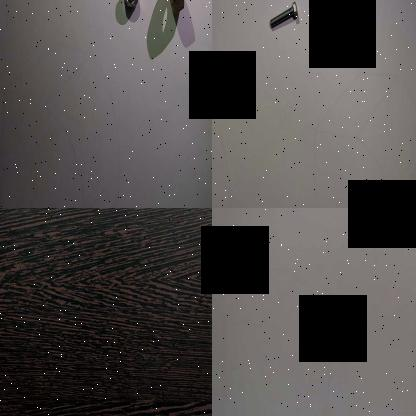Bolts: (266, 0, 302, 36), (378, 208, 402, 230)
NUTS: (165, 0, 185, 18), (120, 0, 140, 10)
